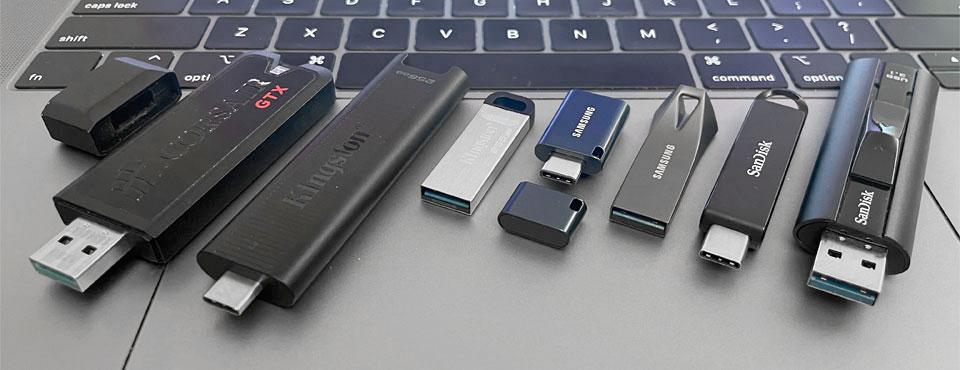USB Flash Drive: (792, 58, 940, 307), (420, 91, 534, 217)
